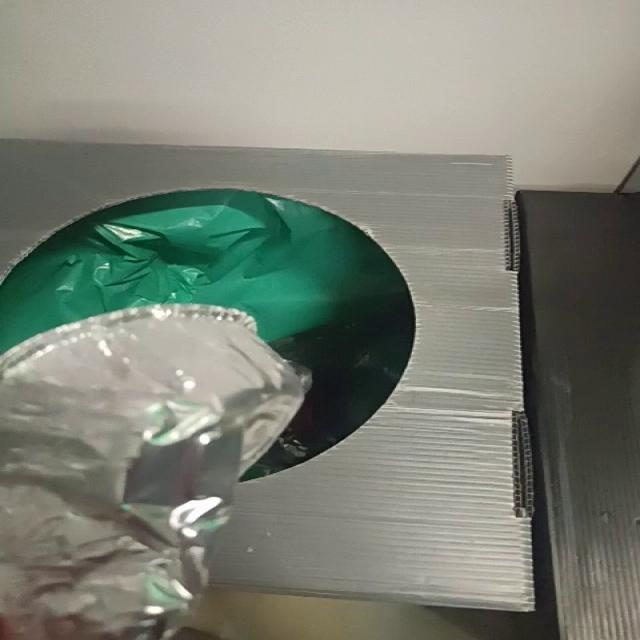bin: (3, 140, 535, 612)
metal: (1, 305, 307, 640)
